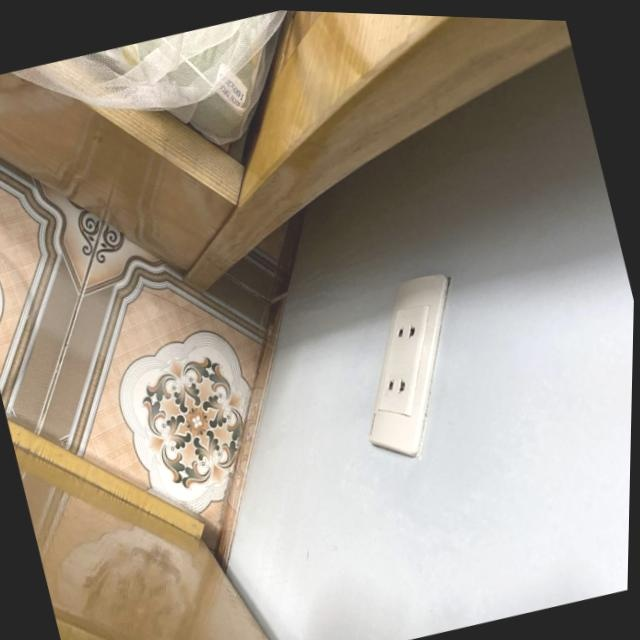outlet: (329, 265, 492, 469)
